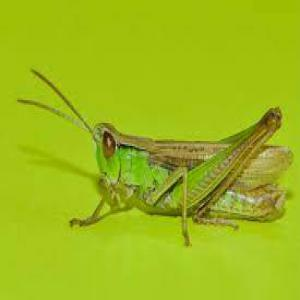locust: (57, 95, 300, 246)
